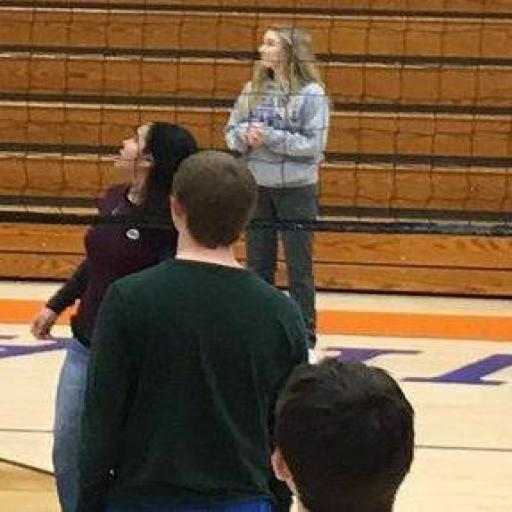person: (77, 152, 306, 511), (31, 122, 198, 511), (225, 27, 330, 346), (273, 358, 413, 511)
